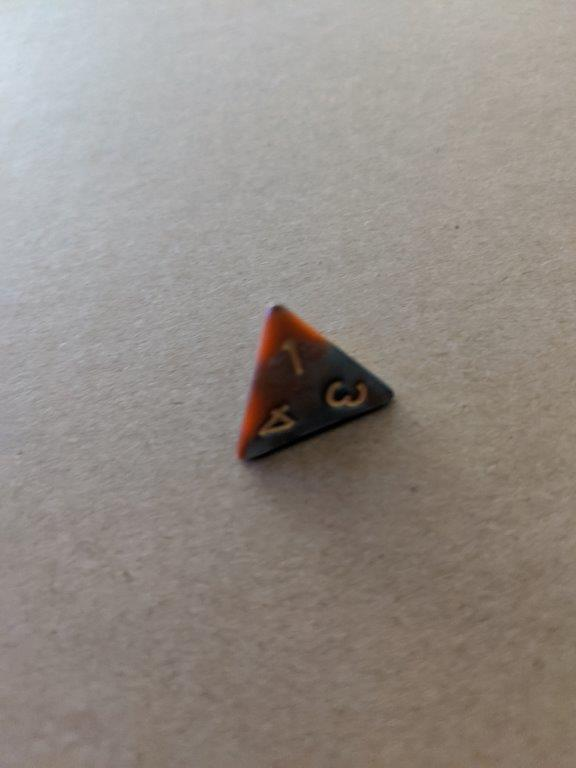d4-1: (230, 298, 401, 466)
